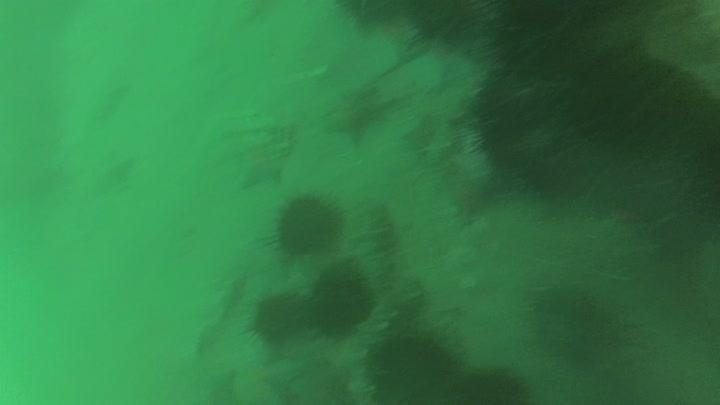echinus: (364, 327, 463, 403), (270, 190, 346, 260), (307, 261, 376, 338), (248, 288, 310, 346), (405, 1, 483, 46), (453, 364, 533, 404), (334, 1, 412, 32)
starfish: (399, 79, 476, 159), (322, 82, 393, 148), (225, 352, 305, 405), (229, 128, 294, 191)
